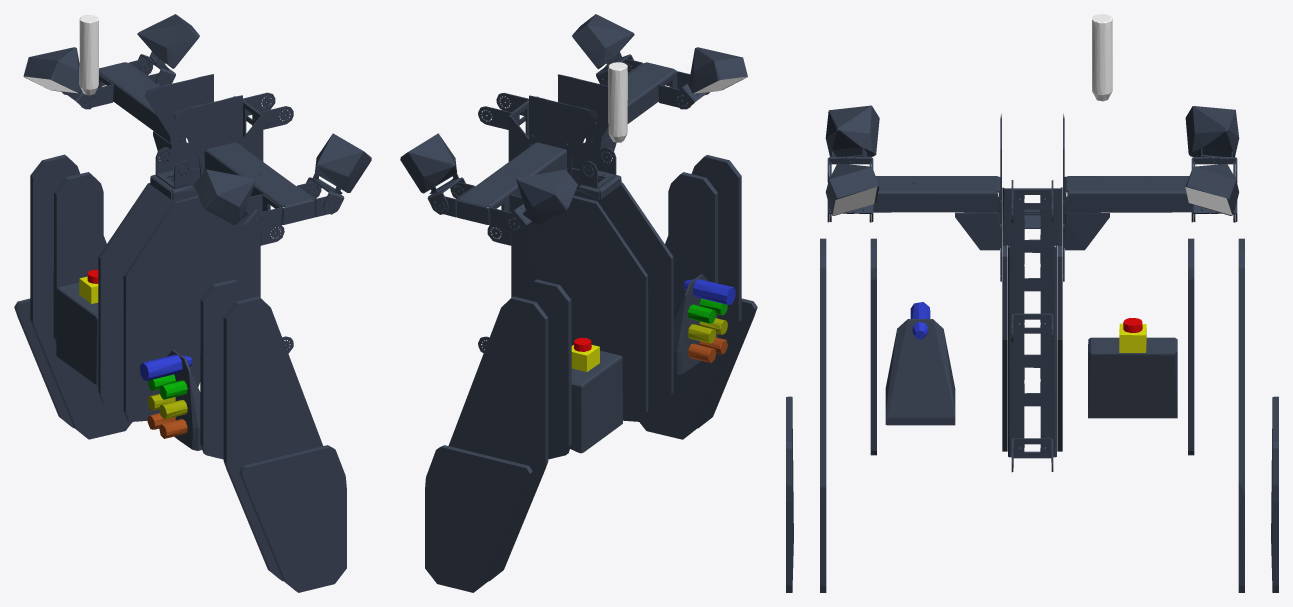
The model's file is boom.dae.
3 views of the same model, side by side, from view 1: azimuth 30°, elevation 25°; view 2: azimuth 150°, elevation 25°; view 3: azimuth 270°, elevation 25° (orthographic). The views are drawn at different scales.
Visible parts, largest first — view 1: boom_link_002_024; view 2: boom_link_002_024; view 3: boom_link_002_024.
Part boxes in pixels (x1=…): boom_link_002_024: x1=14, y1=14, x2=371, y2=592; boom_link_002_024: x1=400, y1=14, x2=757, y2=592; boom_link_002_024: x1=786, y1=14, x2=1278, y2=592.
Bounding box in the file's own units: 0.5666 × 1.16 × 1.36.
